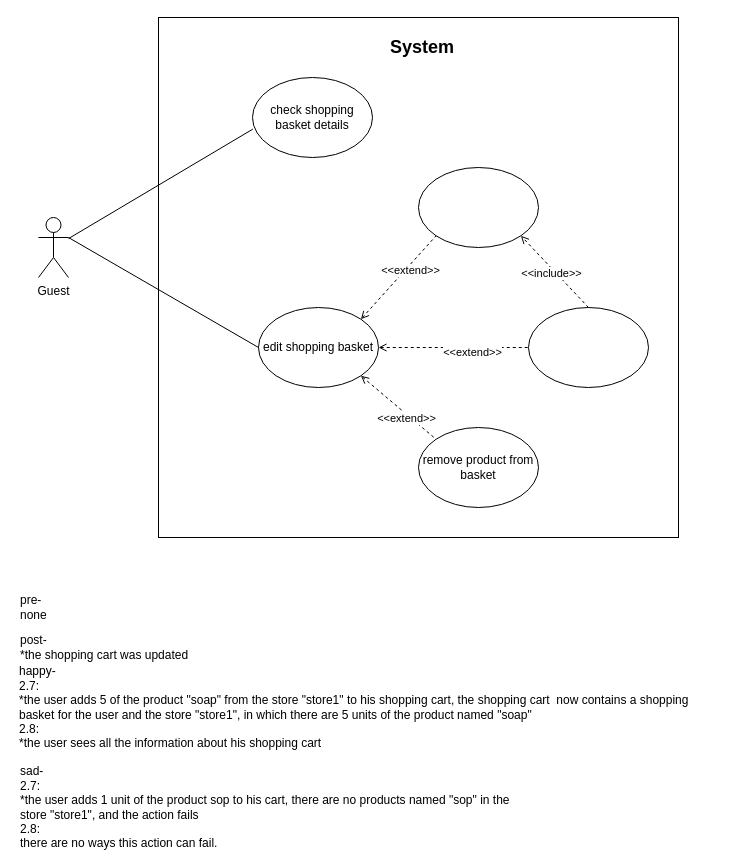
Image size: 744x868. Some labels were removed from this diagram. Each missing label, with the centre of its shape:
"add product to basket" belongs at (478,207).
"set quantity of product in basket" belongs at (588,347).
